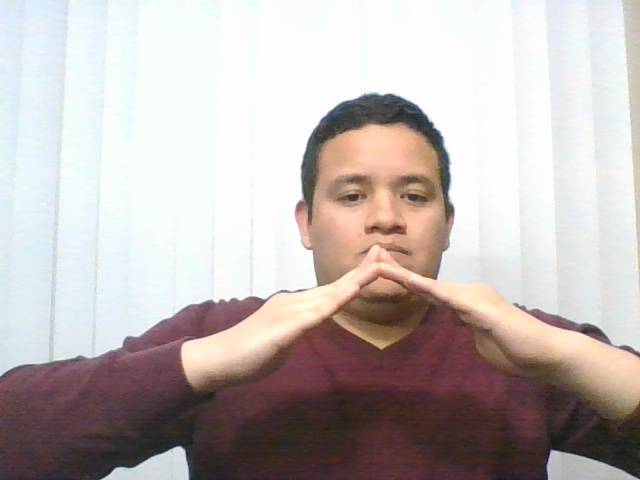House: (138, 232, 596, 446)
